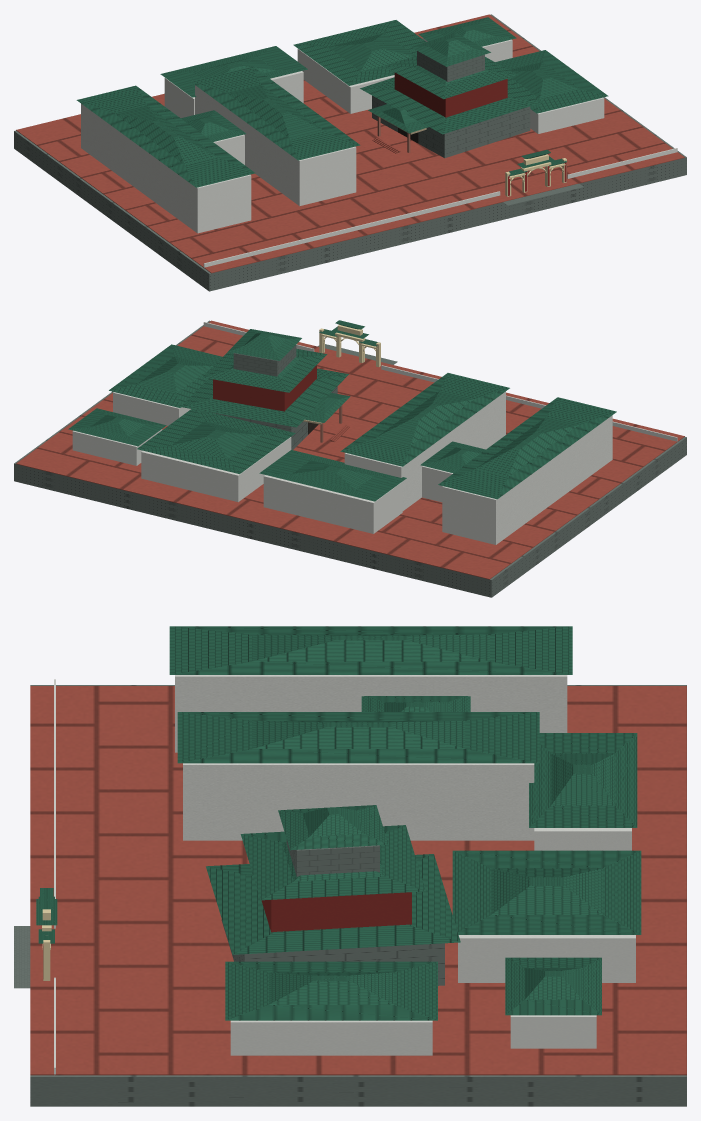
The model's file is ba-chua-xu-lod.glb.
3 views of the same model, one above another, from view 1: azimuth 30°, elevation 25°; view 2: azimuth 150°, elevation 25°; view 3: azimuth 270°, elevation 25° (orthographic). The views are drawn at different scales.
Visible parts, largest first — view 1: ba-chua-xu-far; view 2: ba-chua-xu-far; view 3: ba-chua-xu-far.
Boxes of the visible parts, left/top/right/bottom form: ba-chua-xu-far: left=14, top=14, right=686, bottom=291; ba-chua-xu-far: left=14, top=320, right=686, bottom=597; ba-chua-xu-far: left=14, top=626, right=686, bottom=1106.
Size of the model in its own units: 113 by 23.68 by 82.
Materials: 1 (1 with a texture image).
